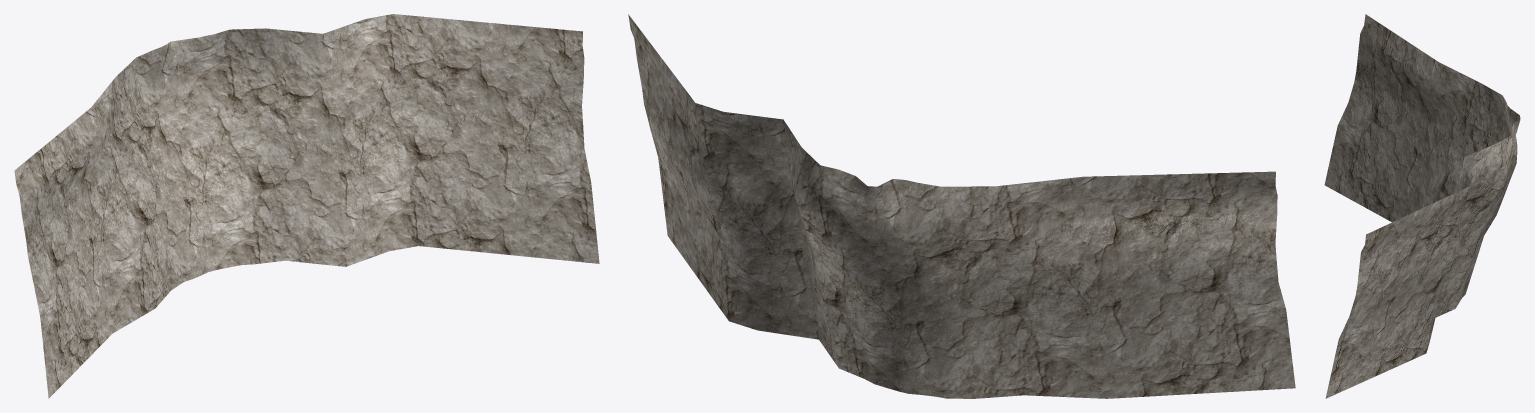
Rendered from Cliff_00.fbx.
3 renders of one model, left to right at view 1: azimuth 30°, elevation 25°; view 2: azimuth 150°, elevation 25°; view 3: azimuth 270°, elevation 25°, orthographic. The views are drawn at different scales.
Parts seen in each view (by area): view 1: Cliff_00; view 2: Cliff_00; view 3: Cliff_00.
Part boxes in pixels (left/top/right/bottom): Cliff_00: left=14, top=14, right=599, bottom=398; Cliff_00: left=628, top=14, right=1295, bottom=398; Cliff_00: left=1324, top=14, right=1520, bottom=398.
Bounding box in the file's own units: 9838 × 3508 × 3696.
